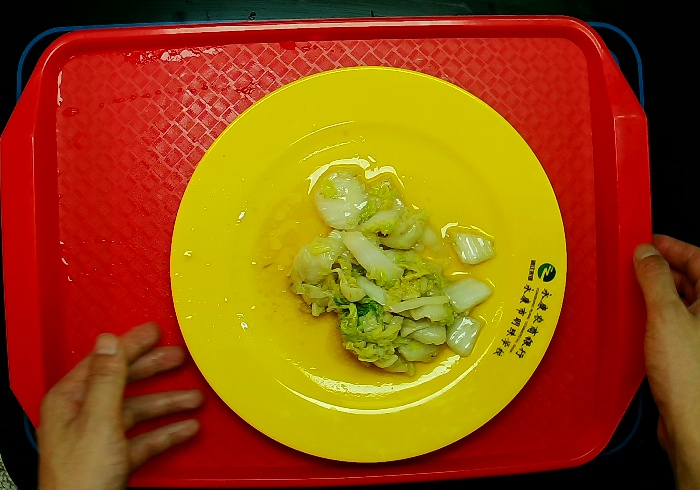YKMZ-Huang_Se_Mian_Pan: (164, 64, 575, 463)
